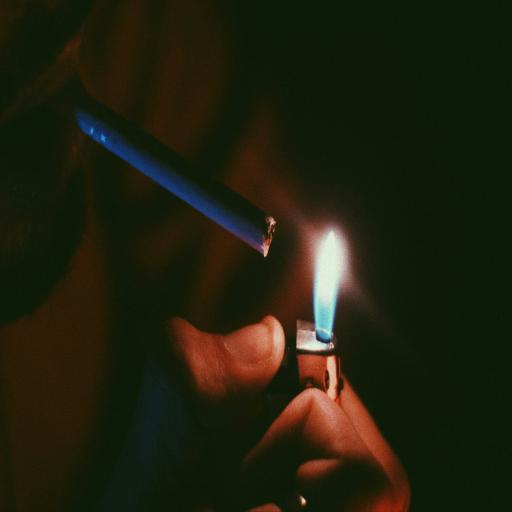lighter: (272, 204, 370, 382)
